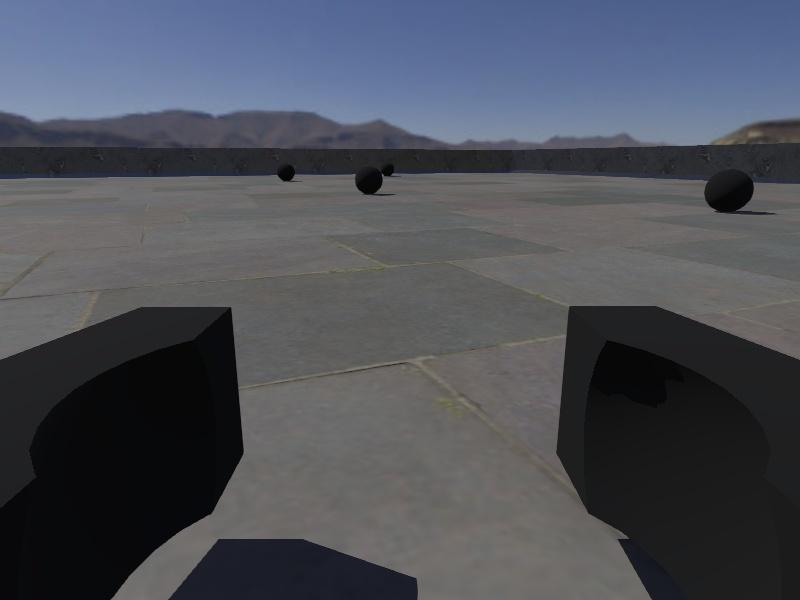black ball: (705, 168, 756, 215), (355, 164, 385, 195), (275, 161, 297, 183)
